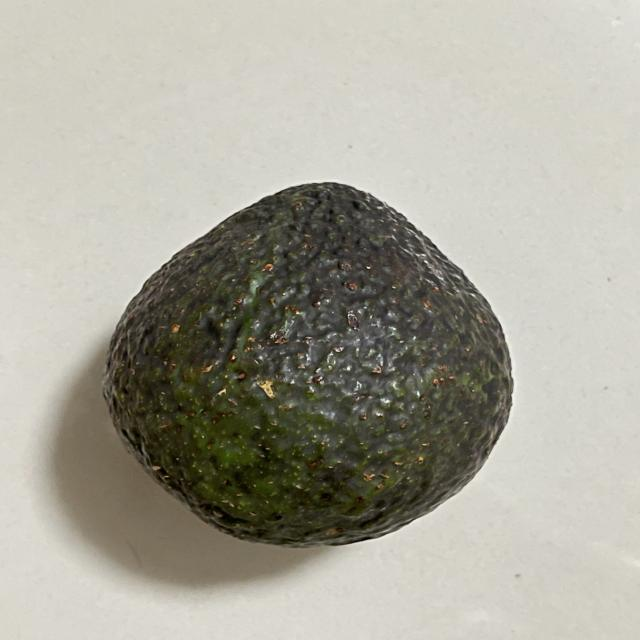Level1: (93, 170, 524, 557)
